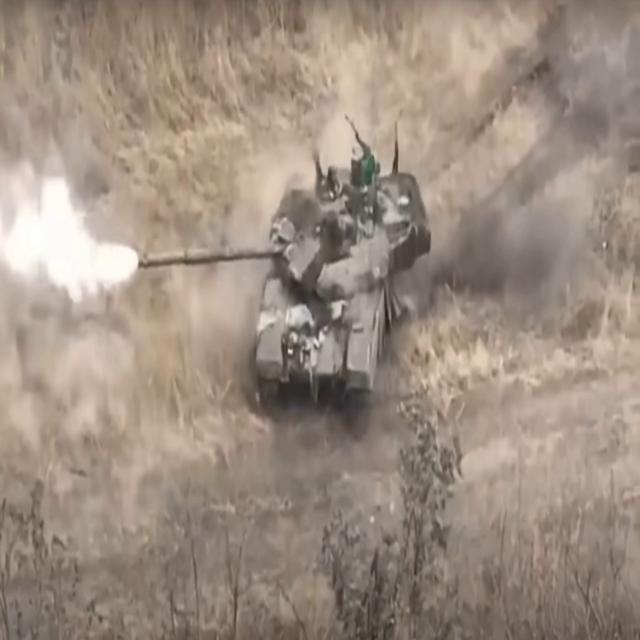MBT: (138, 110, 435, 426)
